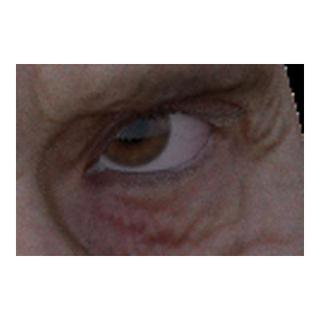pupil: (114, 111, 147, 143)
